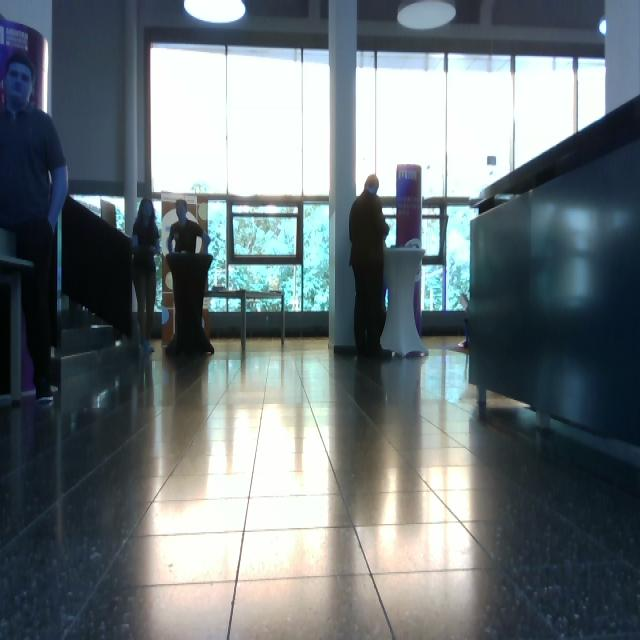light bulb: (397, 1, 457, 30), (184, 1, 246, 25), (599, 17, 607, 34)
person: (1, 50, 69, 405), (349, 174, 393, 360), (164, 200, 215, 356), (131, 199, 162, 355)
pillar: (328, 1, 358, 353), (396, 164, 423, 338)
tiled floor: (2, 333, 639, 638)
window: (149, 41, 331, 314)
